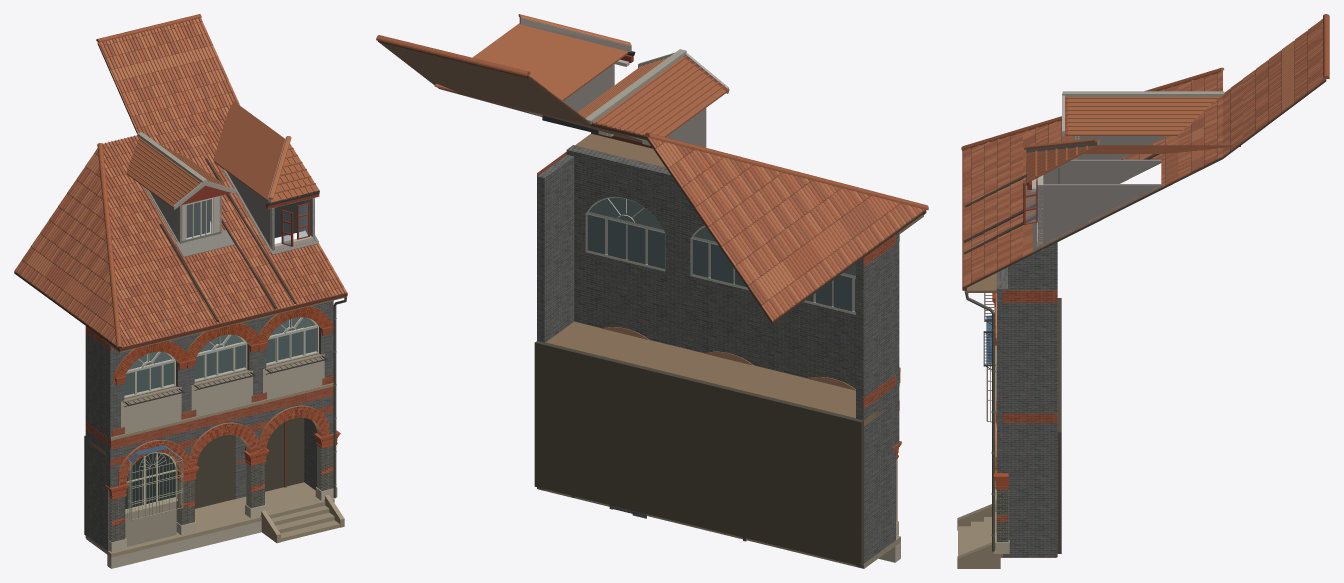
File: hongkou-shanyin-209-brick-arched-front-raw.glb
3 views of the same model, side by side, from view 1: azimuth 30°, elevation 25°; view 2: azimuth 150°, elevation 25°; view 3: azimuth 270°, elevation 25° (orthographic). The views are drawn at different scales.
Parts seen in each view (by area): view 1: 山阴路209弄3号三券花园正面; view 2: 山阴路209弄3号三券花园正面; view 3: 山阴路209弄3号三券花园正面.
Boxes of the visible parts, x1,y1,x2,y2 form: 山阴路209弄3号三券花园正面: [14, 14, 347, 568]; 山阴路209弄3号三券花园正面: [376, 14, 928, 568]; 山阴路209弄3号三券花园正面: [957, 14, 1329, 568].
Bounding box in the file's own units: 10.31 × 16.8 × 11.42.
59 materials, 2 textured.
